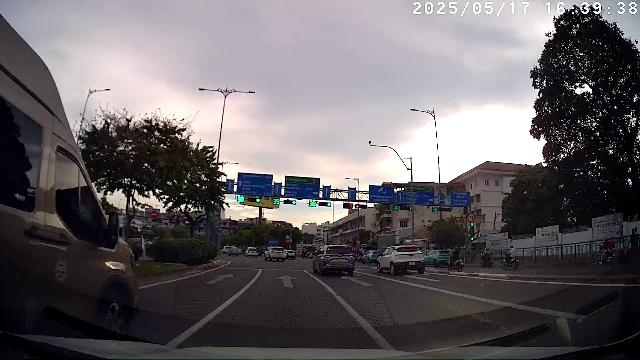124a-cam-quay-dau-xe: (467, 214, 475, 222)
